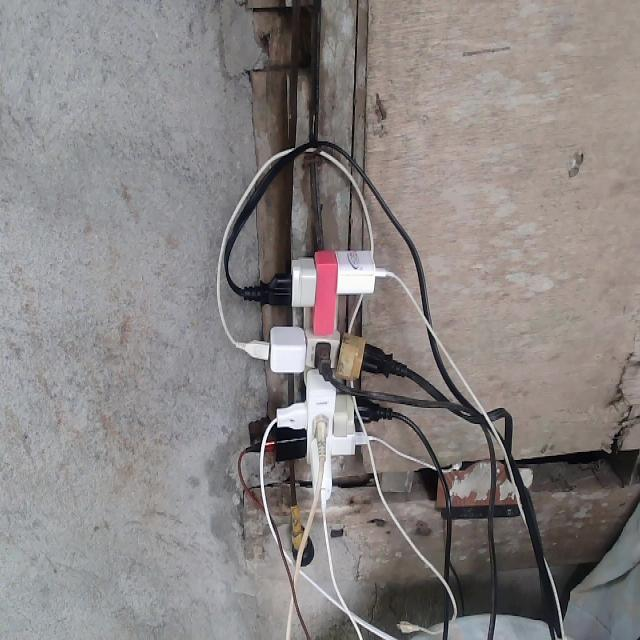-: (237, 251, 396, 497)
